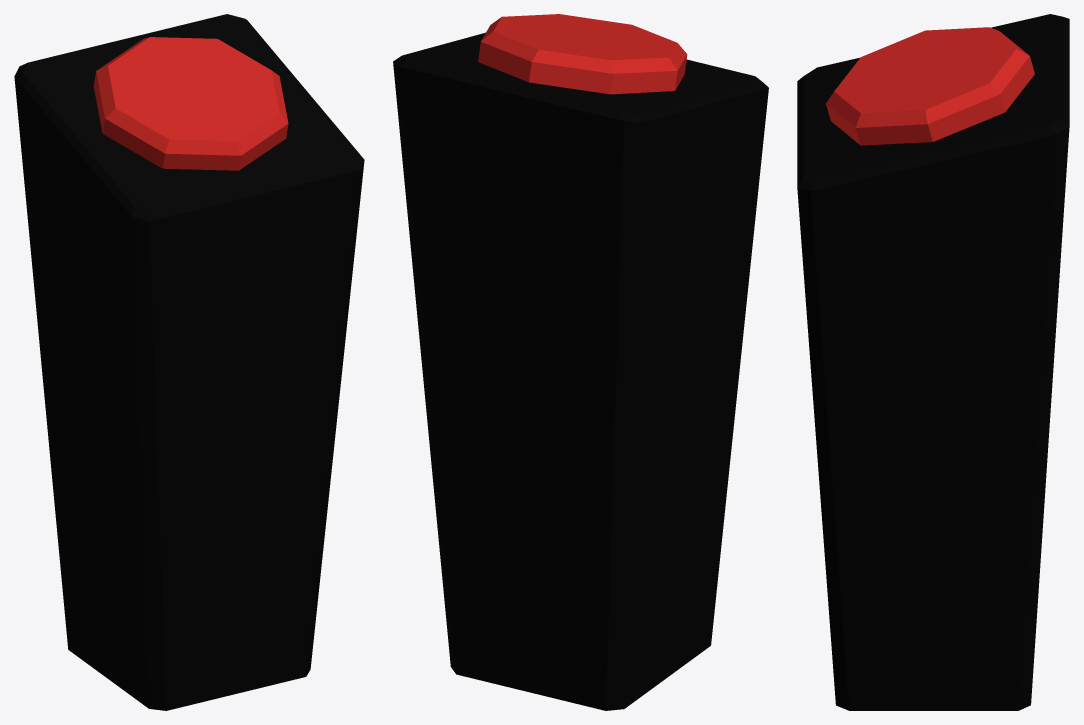
Rendered from button.glb.
3 views of the same model, side by side, from view 1: azimuth 30°, elevation 25°; view 2: azimuth 150°, elevation 25°; view 3: azimuth 270°, elevation 25° (orthographic). The views are drawn at different scales.
Visible parts, largest first — view 1: Cylinder.011; view 2: Cylinder.011; view 3: Cylinder.011.
Part boxes in pixels (bbox=[...]): Cylinder.011: bbox=[14, 14, 364, 710]; Cylinder.011: bbox=[393, 14, 768, 710]; Cylinder.011: bbox=[797, 14, 1069, 710].
Size of what is drawn, in the model's own units: 0.5011 by 1.22 by 0.4858.
